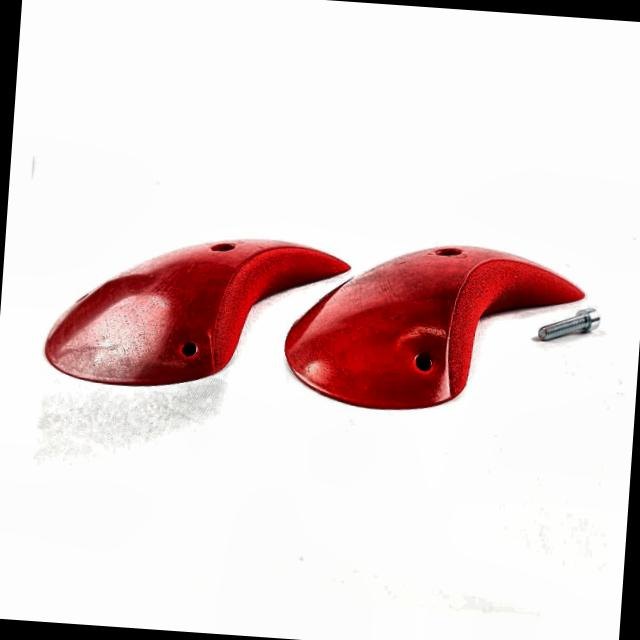Hold: (279, 230, 589, 424), (39, 222, 353, 403)
